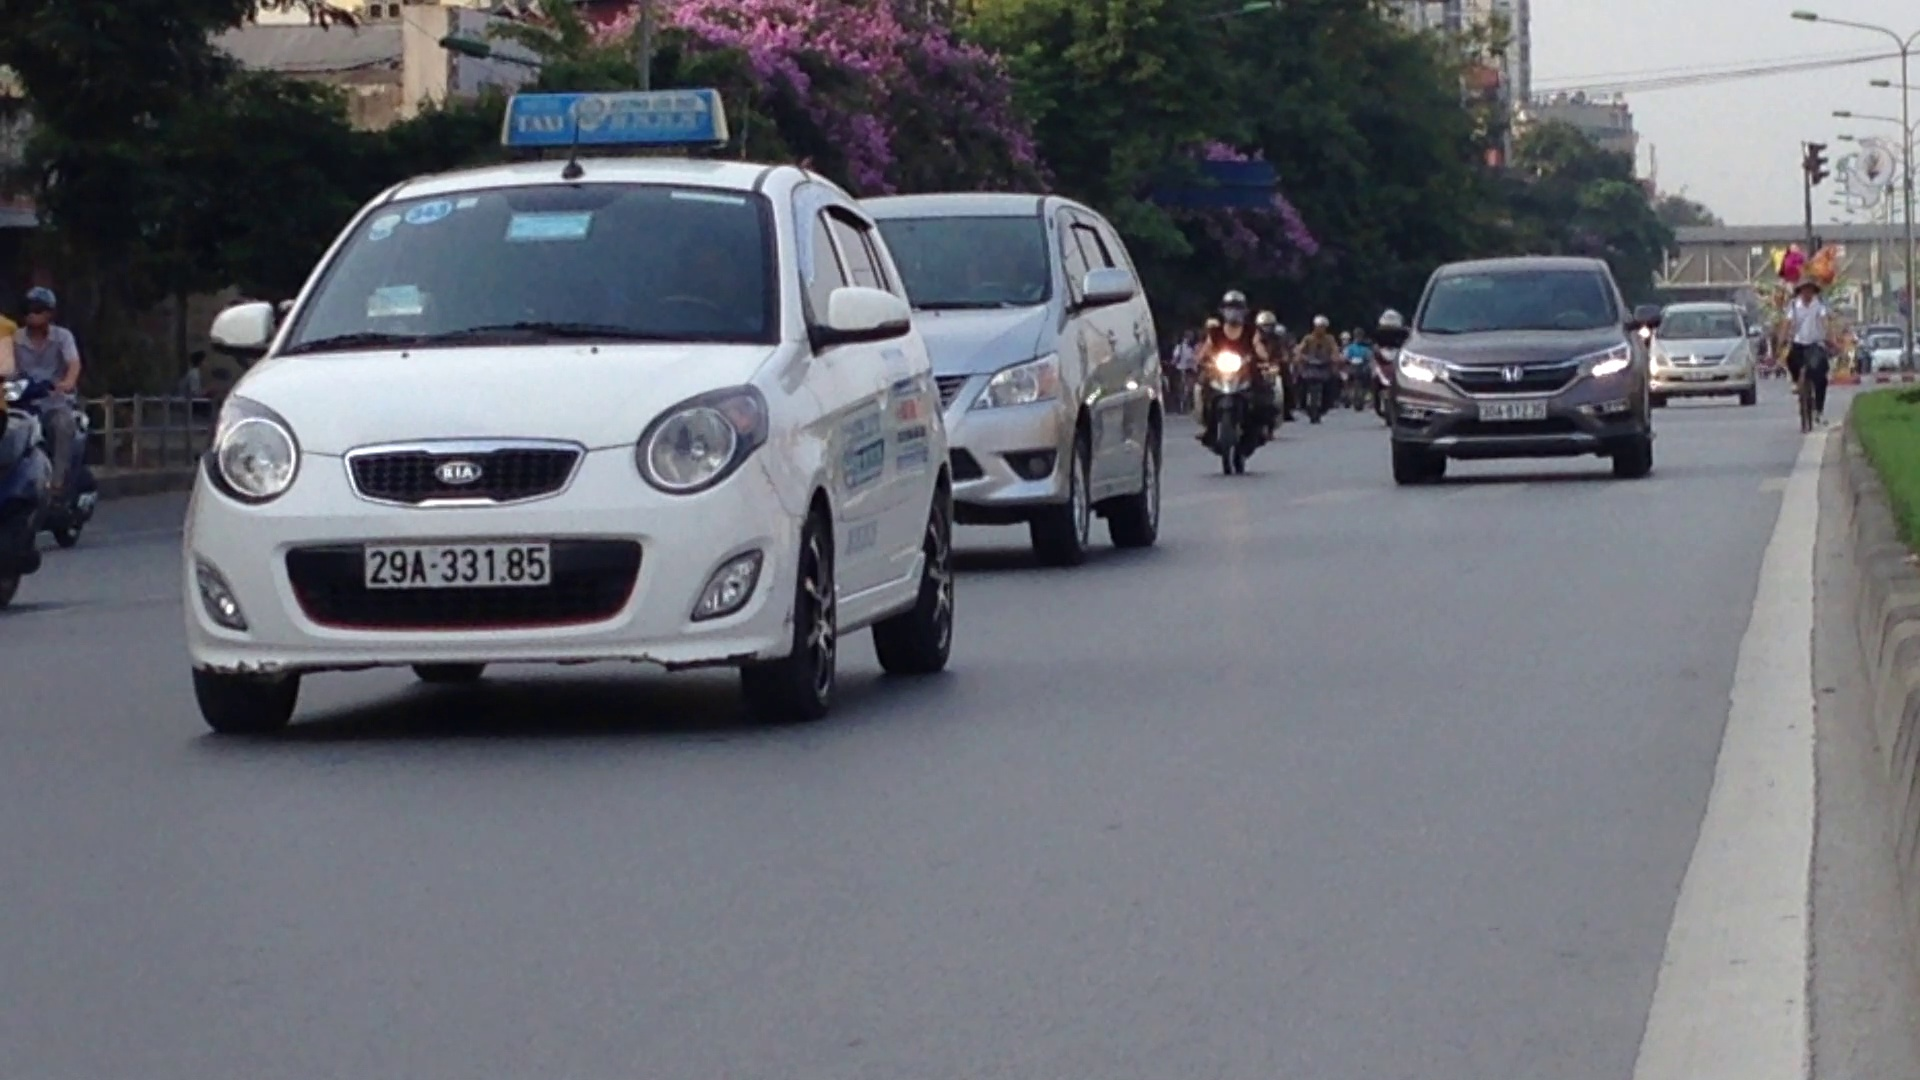vehicle-plate: (358, 540, 553, 589), (1472, 399, 1553, 422)
